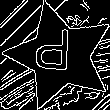P_S: (39, 30, 80, 82)
